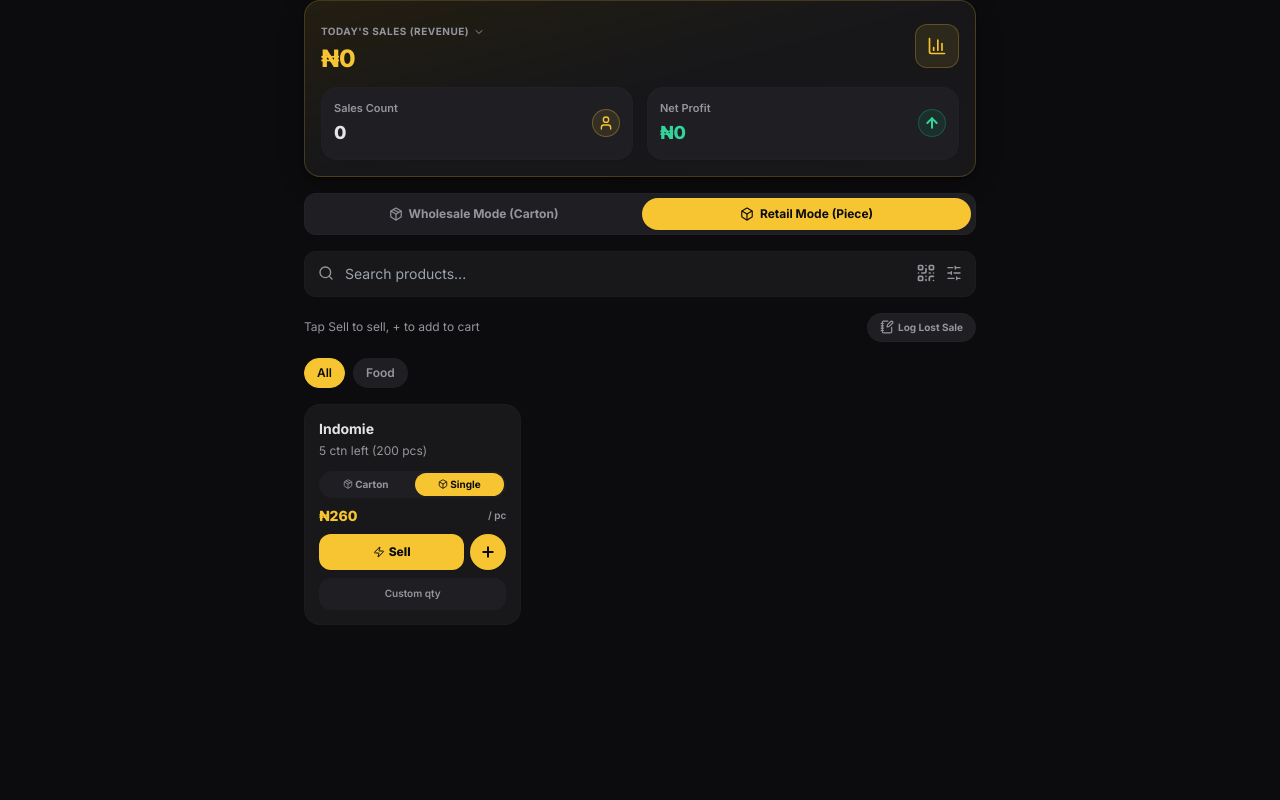
Test: the checkout line › still lets a carton-and-piece product switch between the two
Click the button with aria-label "Instant sell" at (392, 552), box [319, 534, 464, 570]
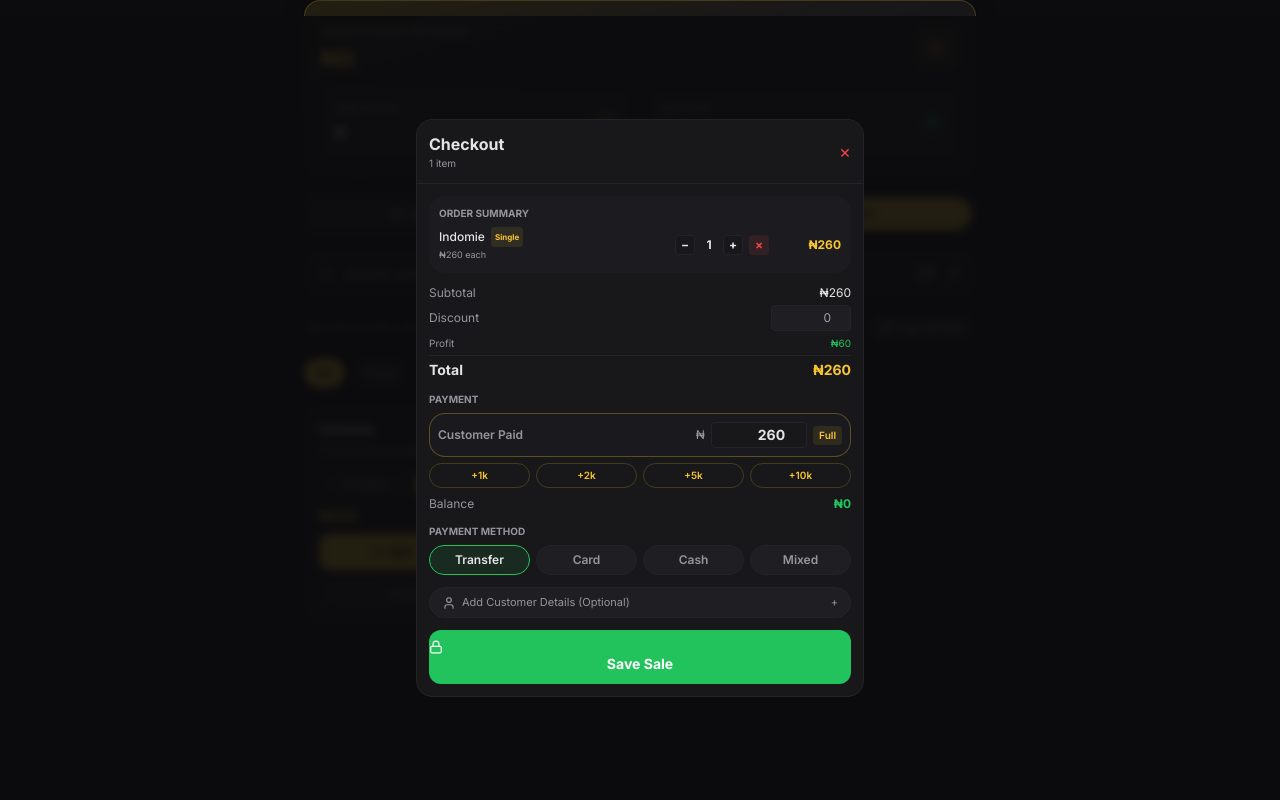
Result: the button titled "Click to toggle Carton/Single" is shown at [491, 227, 523, 247]
